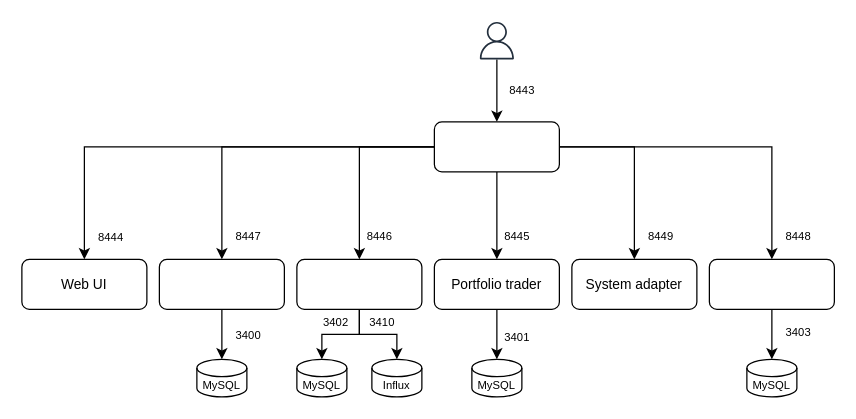
The diagram is 856 pixels wide and 419 high, and some of its shapes have lost their labels. The centre of each missing label's shape, as x and y in pixels:
"Data collector" belongs at [359,283].
"Gateway" belongs at [496,146].
"Inventory server" belongs at [221,283].
"Keycloak" belongs at [771,283].
